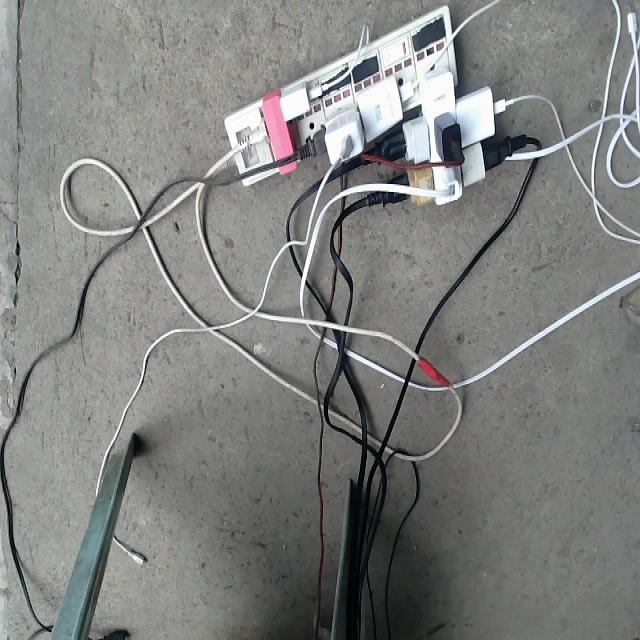-: (223, 8, 499, 211)
